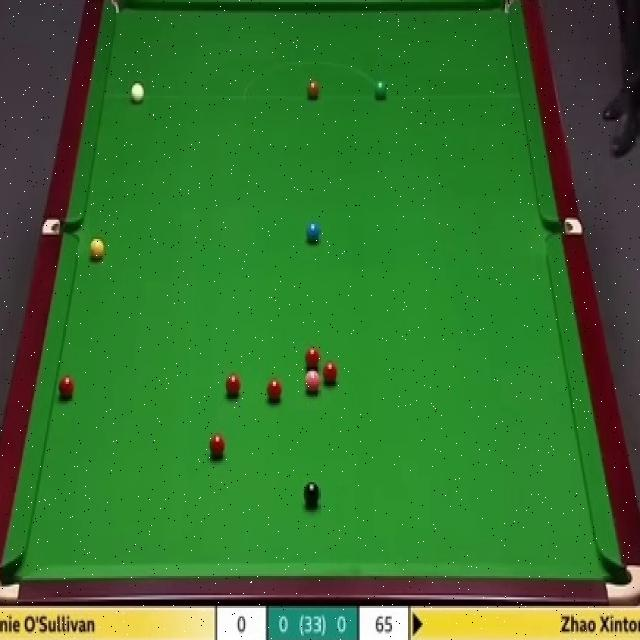black-ball: (304, 481, 321, 508)
blue-ball: (303, 222, 320, 244)
brown-ball: (307, 76, 319, 98)
green-ball: (374, 79, 388, 101)
pink-ball: (304, 371, 320, 393)
red-ball: (57, 372, 76, 402), (209, 432, 227, 460), (224, 372, 243, 397), (265, 379, 283, 400), (322, 362, 338, 385), (304, 346, 319, 368)
white-ball: (130, 80, 144, 105)
yellow-ball: (89, 238, 106, 262)
